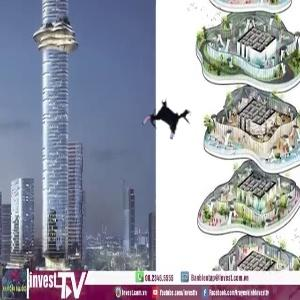drone: (142, 95, 195, 148)
